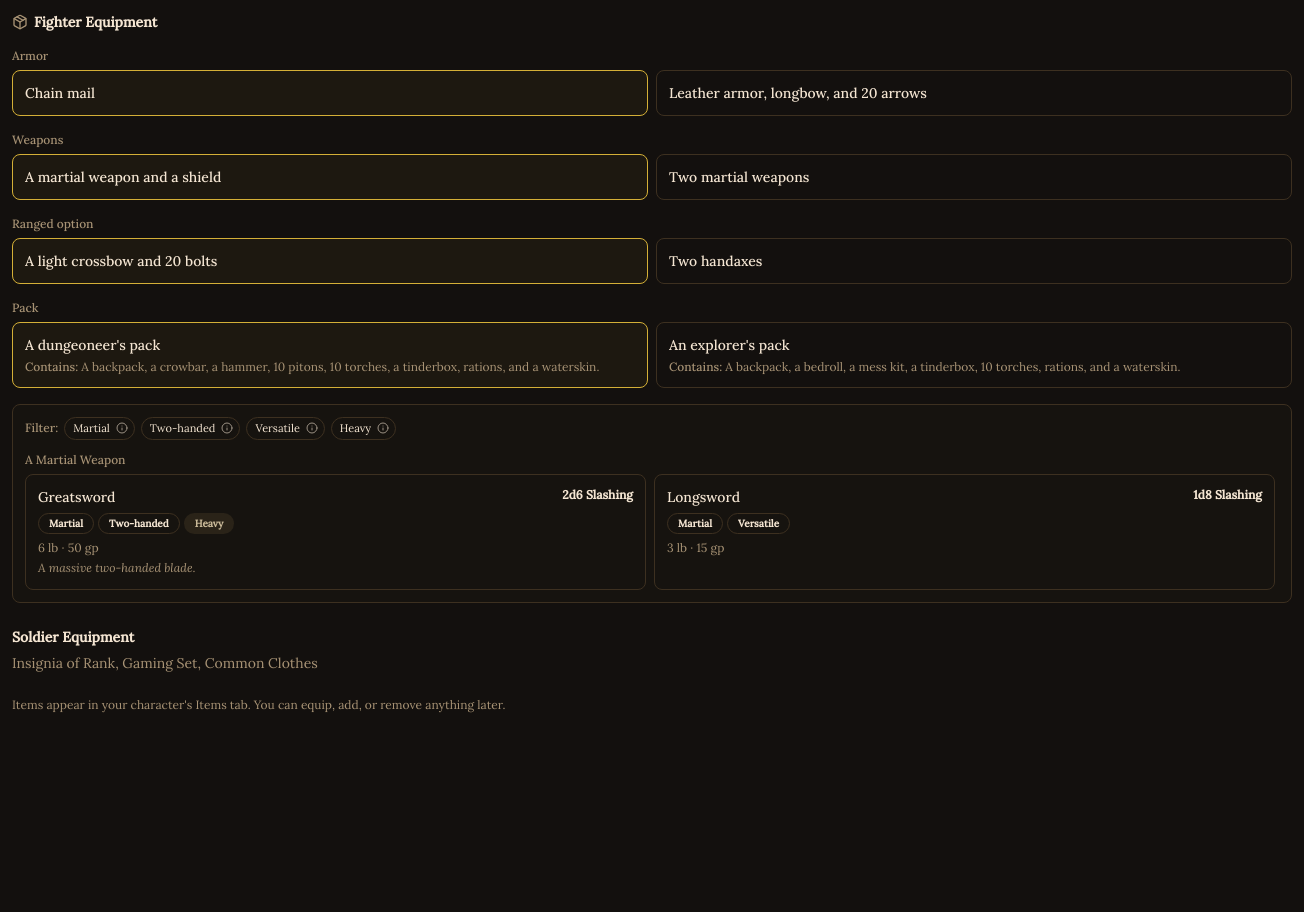
it: StartingEquipmentStep › explains a filter when its ⓘ button is clicked
Click the button with test id "weapon-filter-info-Two-handed".
click(229, 428)  # box [219,420,239,436]
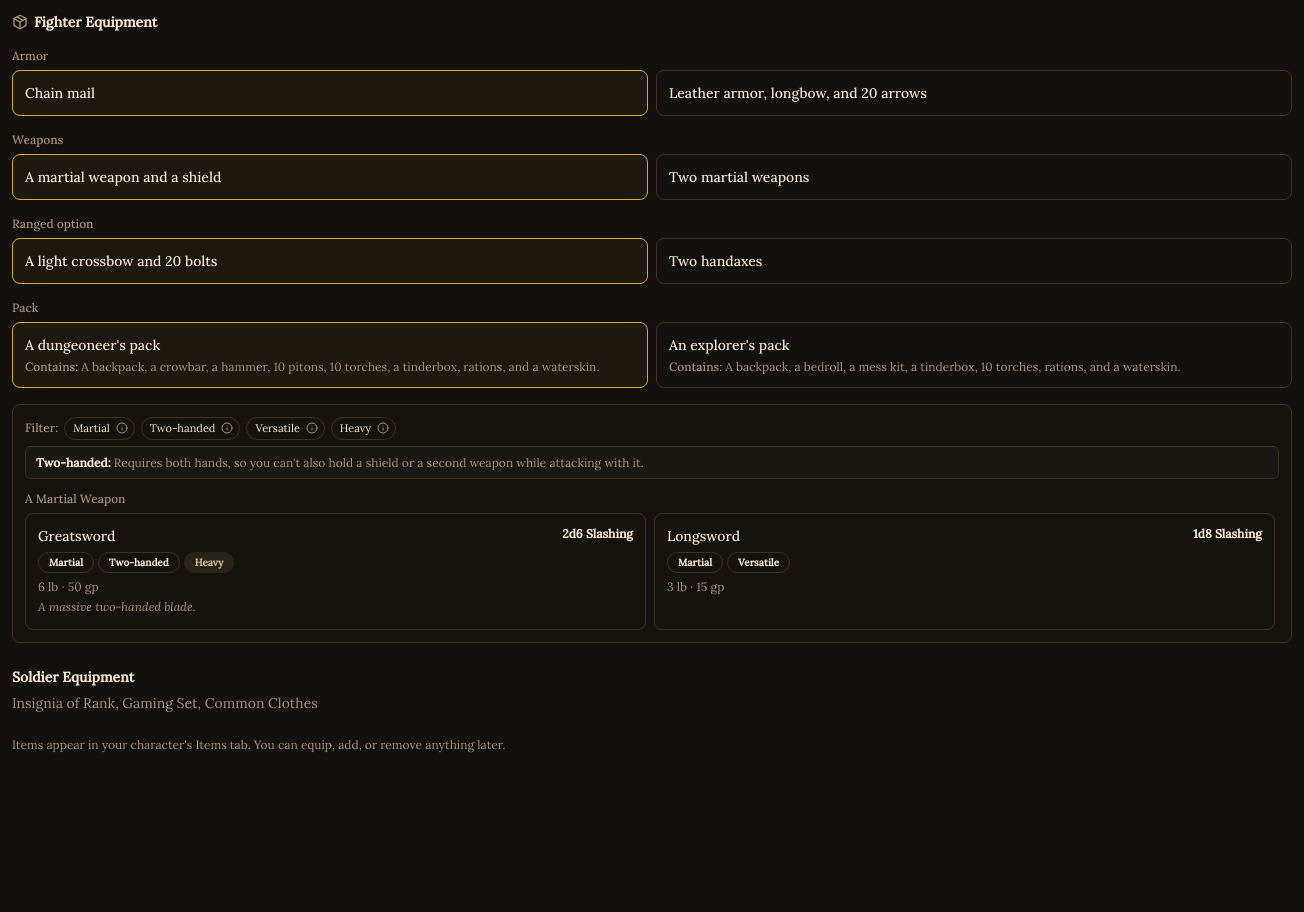
Check: the element with test id "weapon-filter-description" shows "both hands", box [114,454,644,470]
